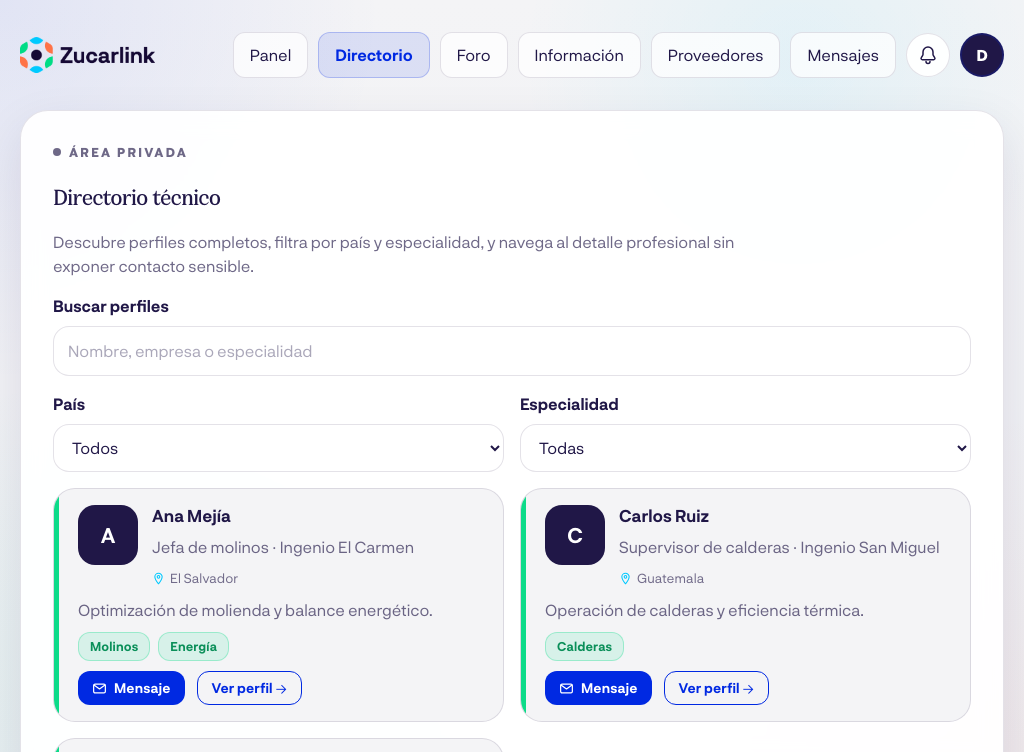
Test case: filters the private directory and opens a profile detail
Check: the heading "Directorio técnico" is shown, box [53, 181, 220, 210]
Check: the heading "Ana Mejía" is shown, box [152, 505, 231, 525]
Type "ana" into the search field labelled "Buscar perfiles" at (512, 351), box [53, 326, 971, 376]
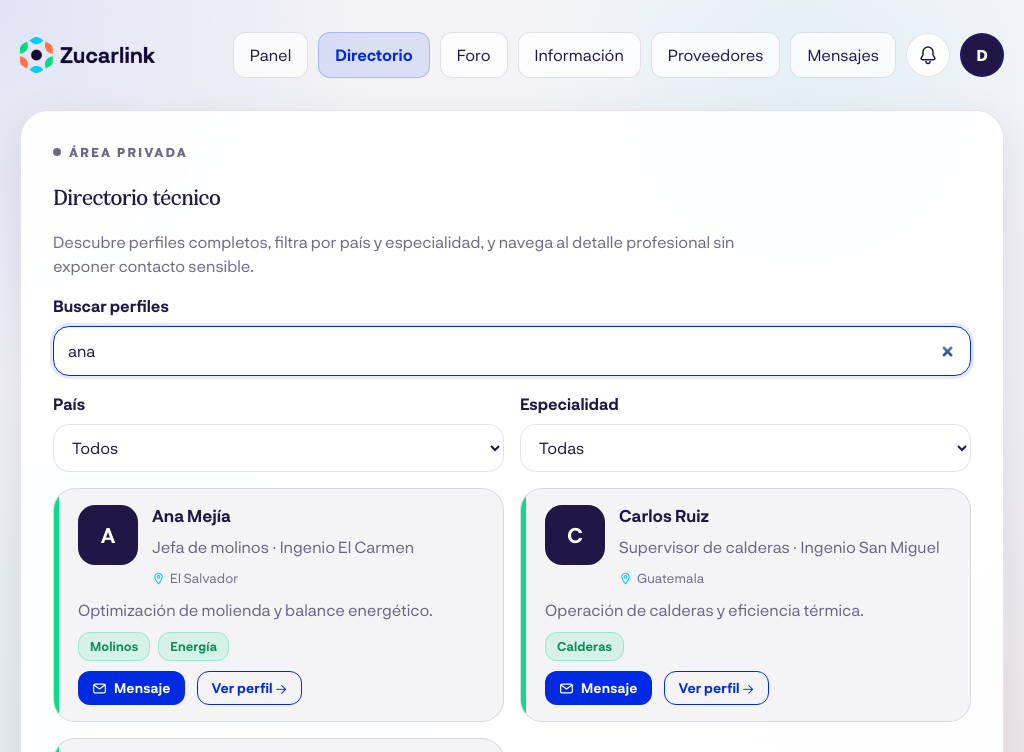
Select "El Salvador" in the dropdown labelled "País" at (278, 448), box [53, 424, 504, 472]
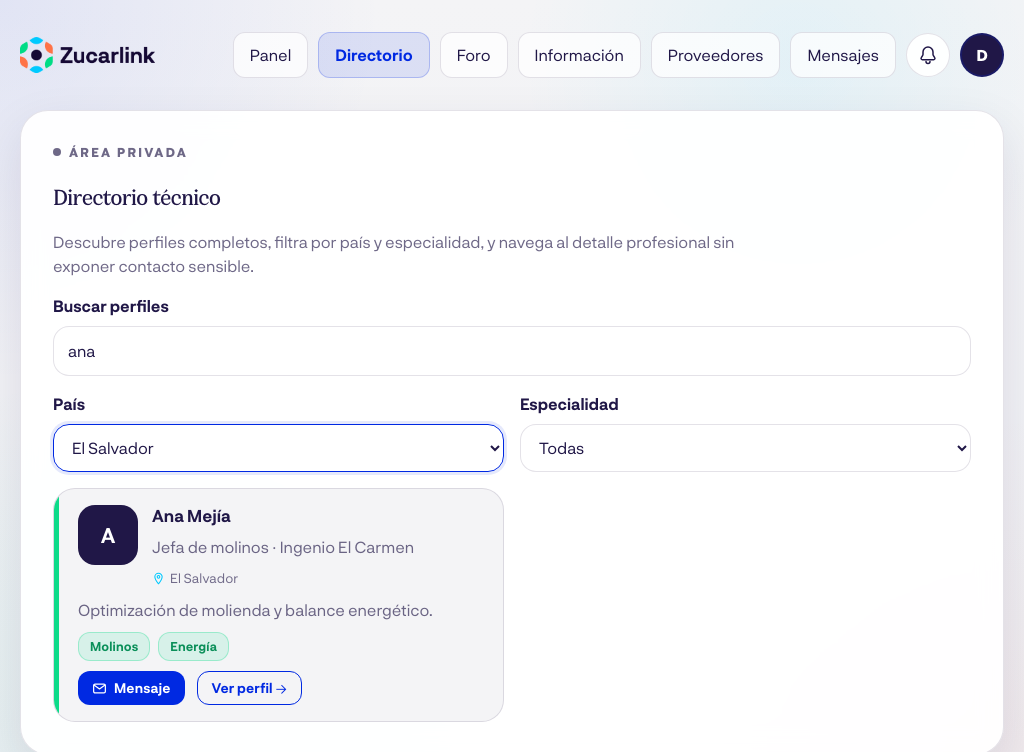
Select "Molinos" in the dropdown labelled "Especialidad" at (746, 448), box [520, 424, 971, 472]
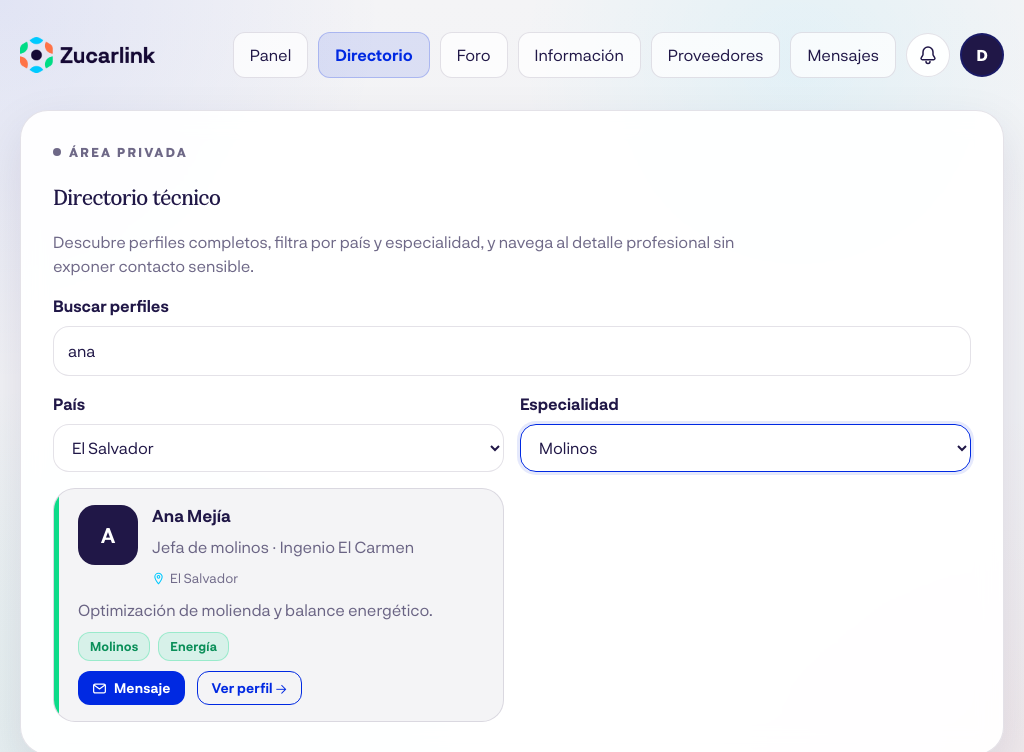
Check: the heading "Ana Mejía" is shown, box [152, 505, 231, 525]
Check: the heading "Carlos Ruiz" is not shown
Click the link with aria-label "Ver perfil de Ana Mejía" at (249, 688), box [197, 671, 302, 705]
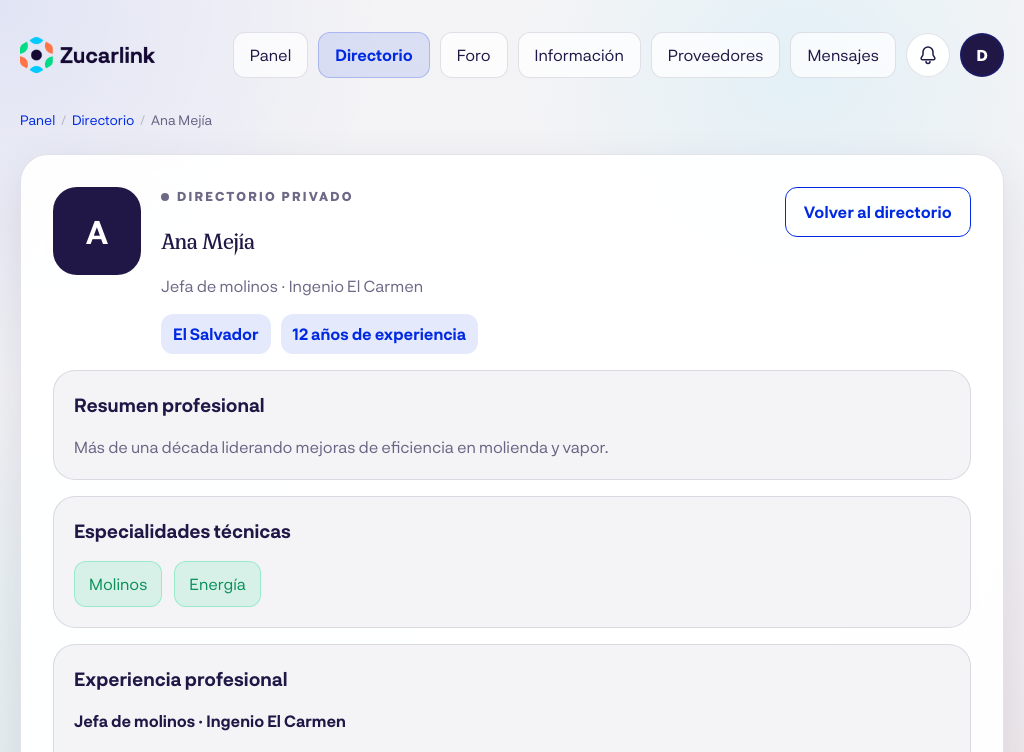
Check: the text "Más de una década liderando mejoras de eficiencia en molienda y vapor." is shown, box [74, 437, 608, 456]
